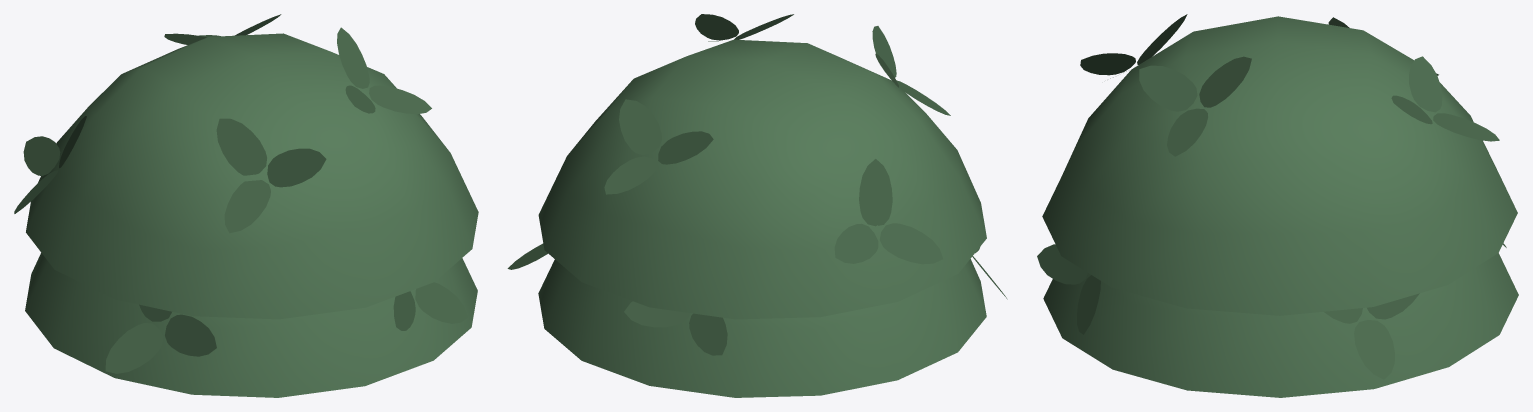
The model's file is Bush_Final.fbx.
The picture shows the model from 3 angles, left to right: view 1: azimuth 30°, elevation 25°; view 2: azimuth 150°, elevation 25°; view 3: azimuth 270°, elevation 25°; orthographic projection. The views are drawn at different scales.
Visible parts, largest first — view 1: Bush; view 2: Bush; view 3: Bush.
Boxes of the visible parts, box(x1,y1,x2,y2) form: Bush: box(14, 14, 478, 397); Bush: box(507, 14, 1007, 397); Bush: box(1037, 14, 1518, 397).
Size of the model in its own units: 61.54 by 41.85 by 58.91.
